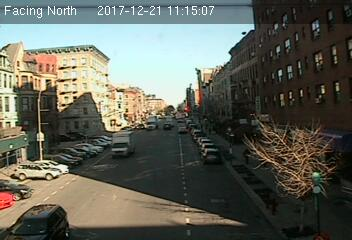car: (202, 147, 220, 163), (177, 125, 187, 133)
truck: (110, 131, 135, 157)
